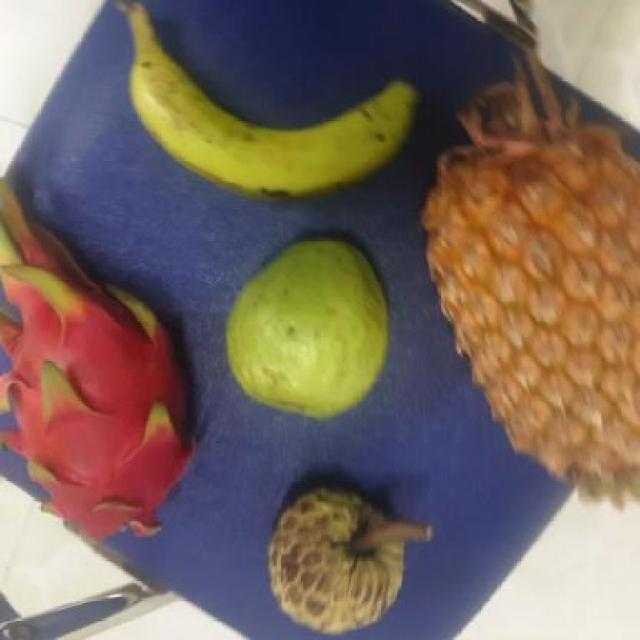banana: (117, 35, 406, 200)
dragon fruit: (0, 287, 198, 530)
guava: (215, 240, 392, 418)
sugar apple: (259, 482, 416, 633)
